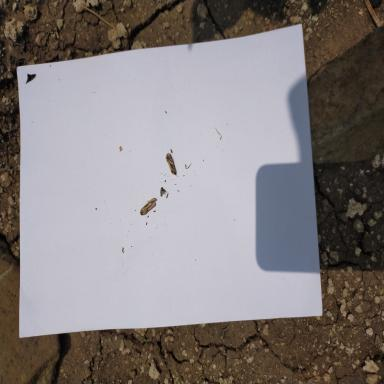pbw: (166, 153, 178, 176), (140, 198, 155, 215), (160, 187, 166, 197)
